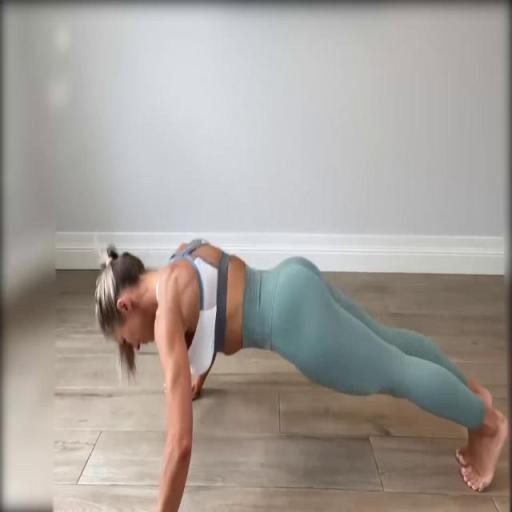Normal_Dips: (3, 219, 510, 511)
